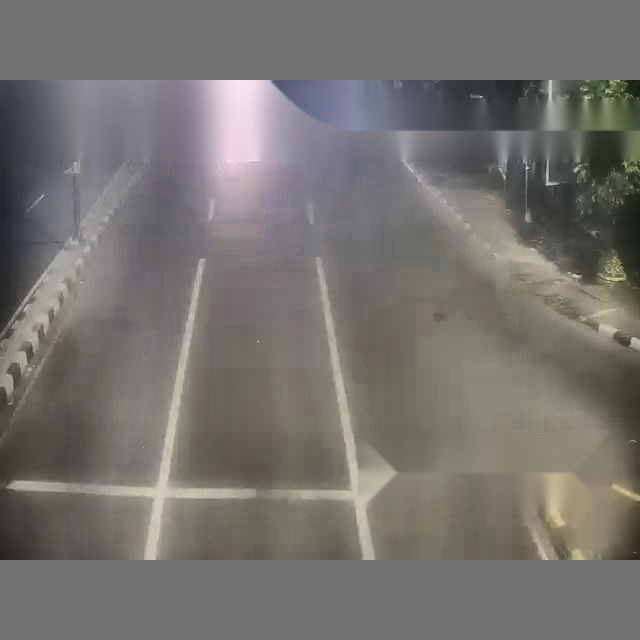Truk: (184, 81, 640, 558)
